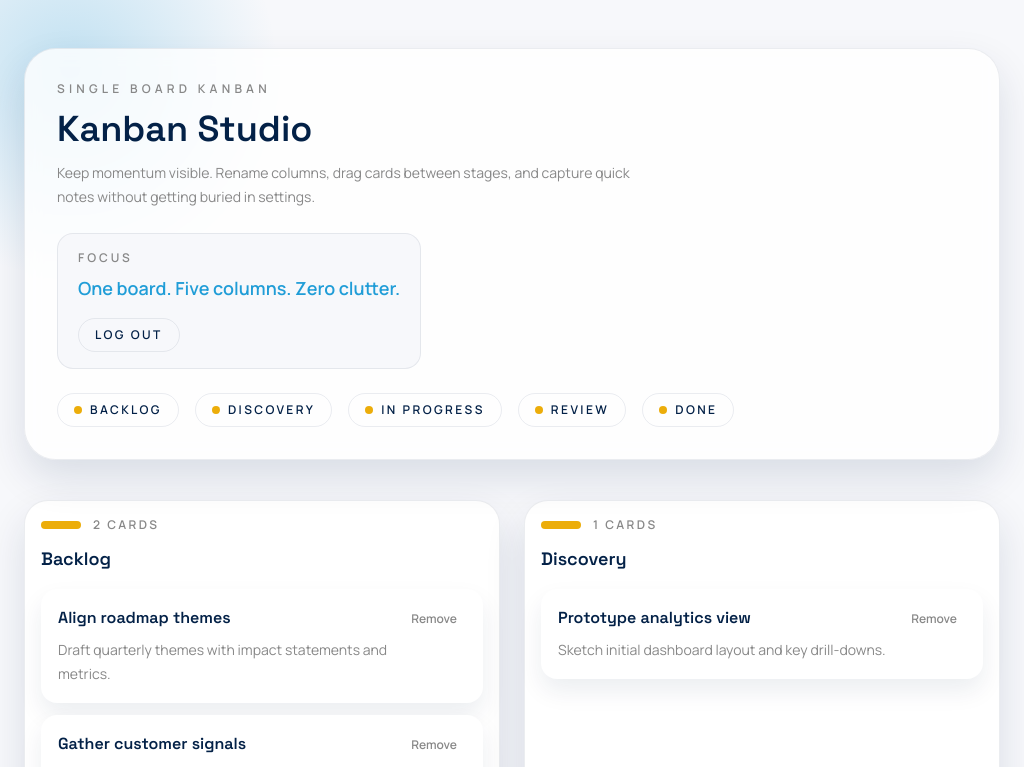
Test: AuthGate › restores persisted session and allows logout
Expected: the heading "Kanban Studio" is shown, [57, 106, 312, 152]
Click the button "Log out" at (129, 335), box [78, 318, 180, 352]
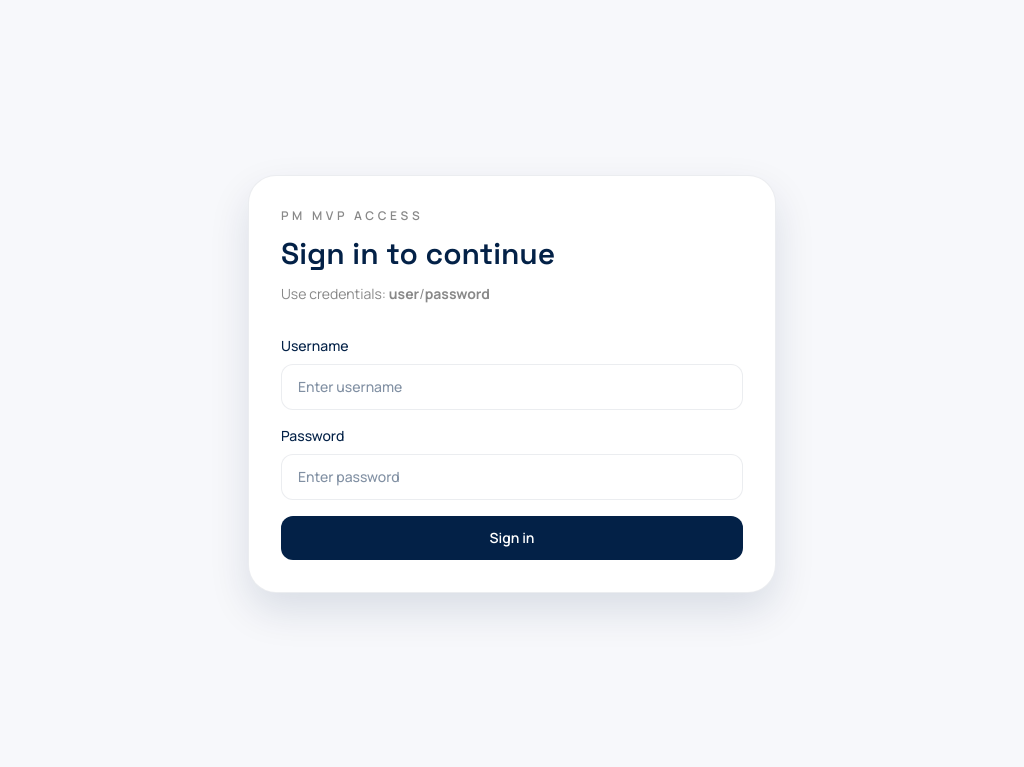
Result: the heading "Sign in to continue" is shown at [281, 234, 555, 273]
